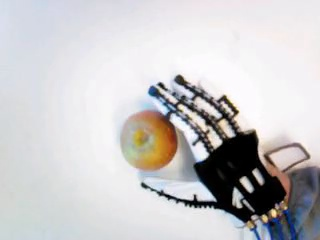apple: (119, 108, 177, 170)
hand: (139, 74, 285, 225)
